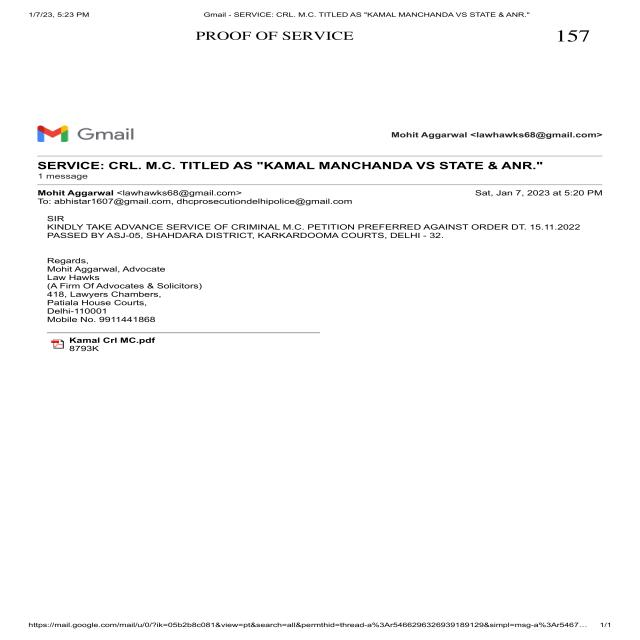page-number: (531, 1, 640, 97)
